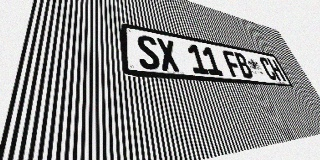1: (185, 43, 209, 75), (200, 46, 223, 76)
B: (233, 52, 255, 79)
C: (258, 57, 278, 81)
F: (221, 50, 244, 78)
H: (266, 58, 286, 81)
S: (136, 34, 161, 70)
X: (155, 38, 181, 72)
